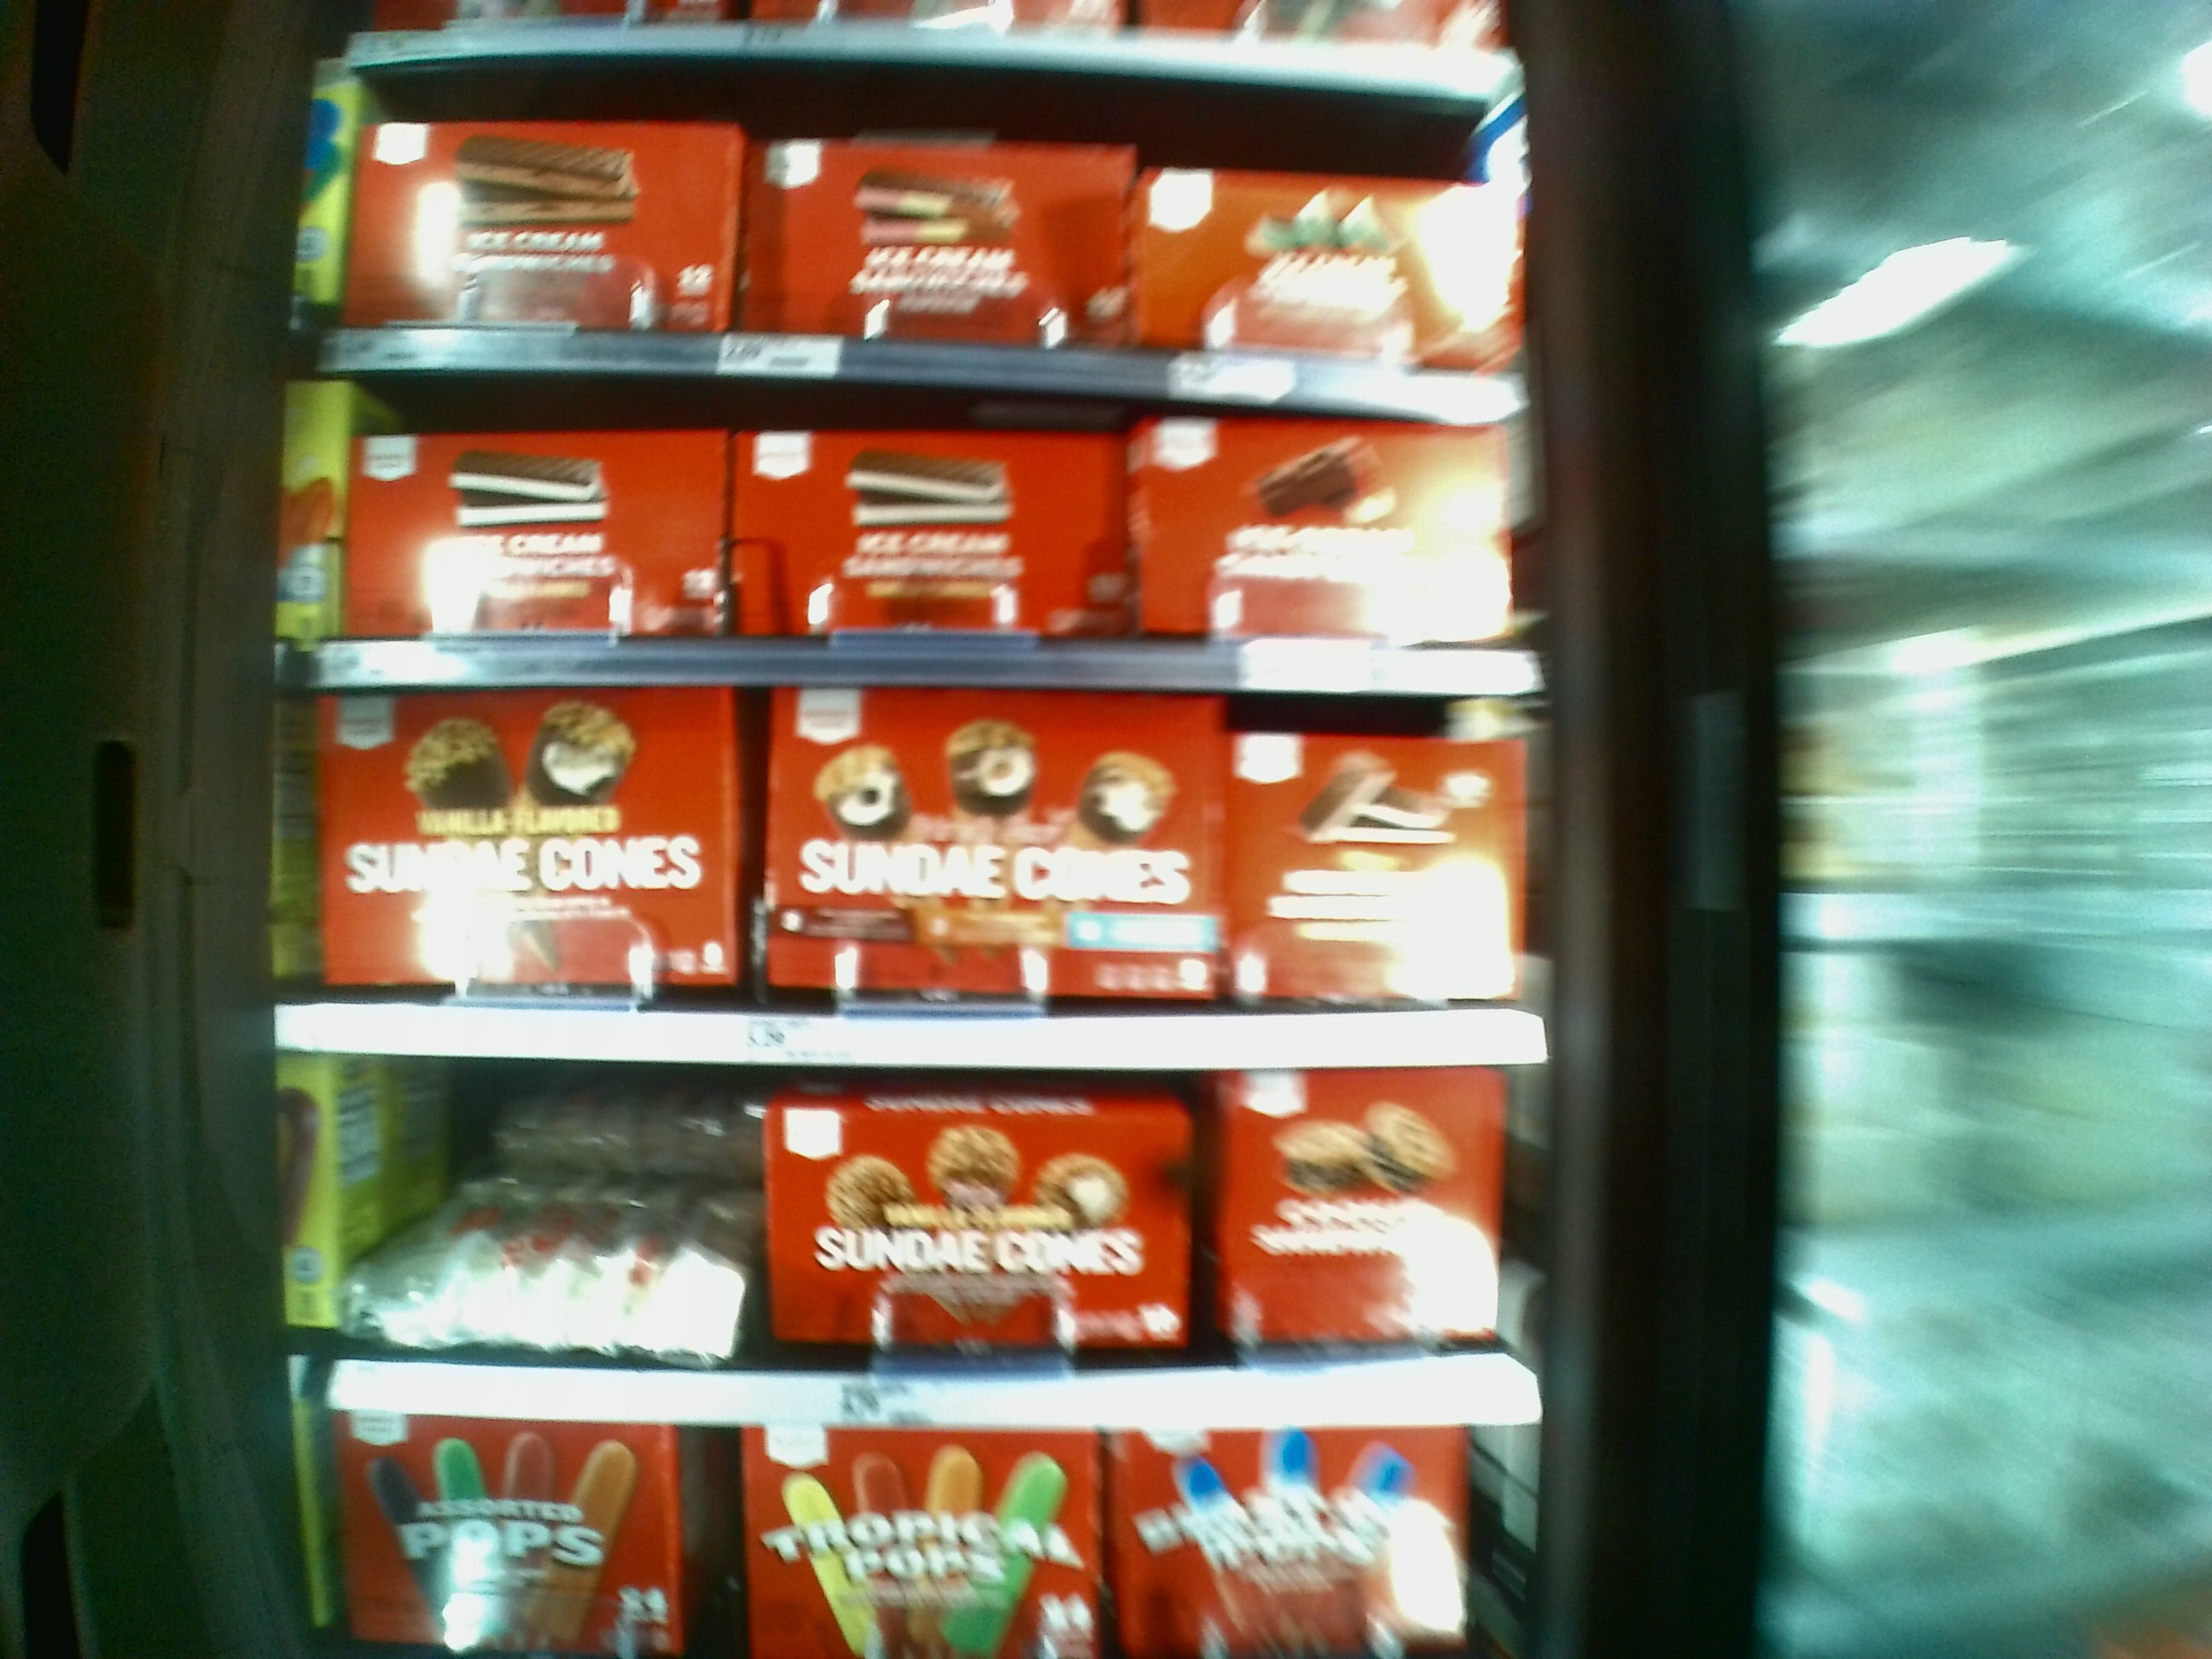shelf: (327, 1061, 1561, 1441), (308, 690, 1538, 1065), (345, 77, 1503, 404), (317, 387, 1533, 694)
